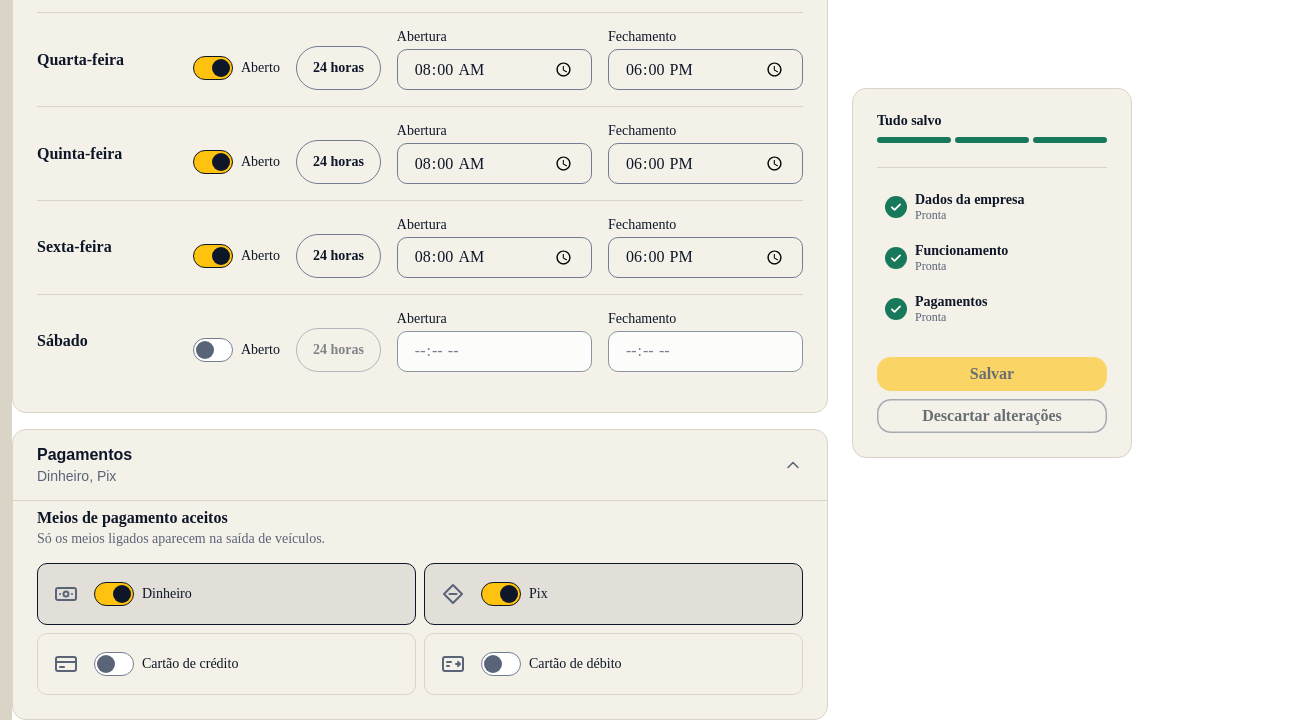
EmpresaForm: seção Pagamentos › salva enviando os quatro meios junto com o restante
The width and height of the screenshot is (1292, 720).
(page scrolled)
Expected: the switch named "Dinheiro" is shown, [94,582,134,606]
Click the switch named "Cartão de crédito". click: point(114, 664)
box: [94,652,134,676]
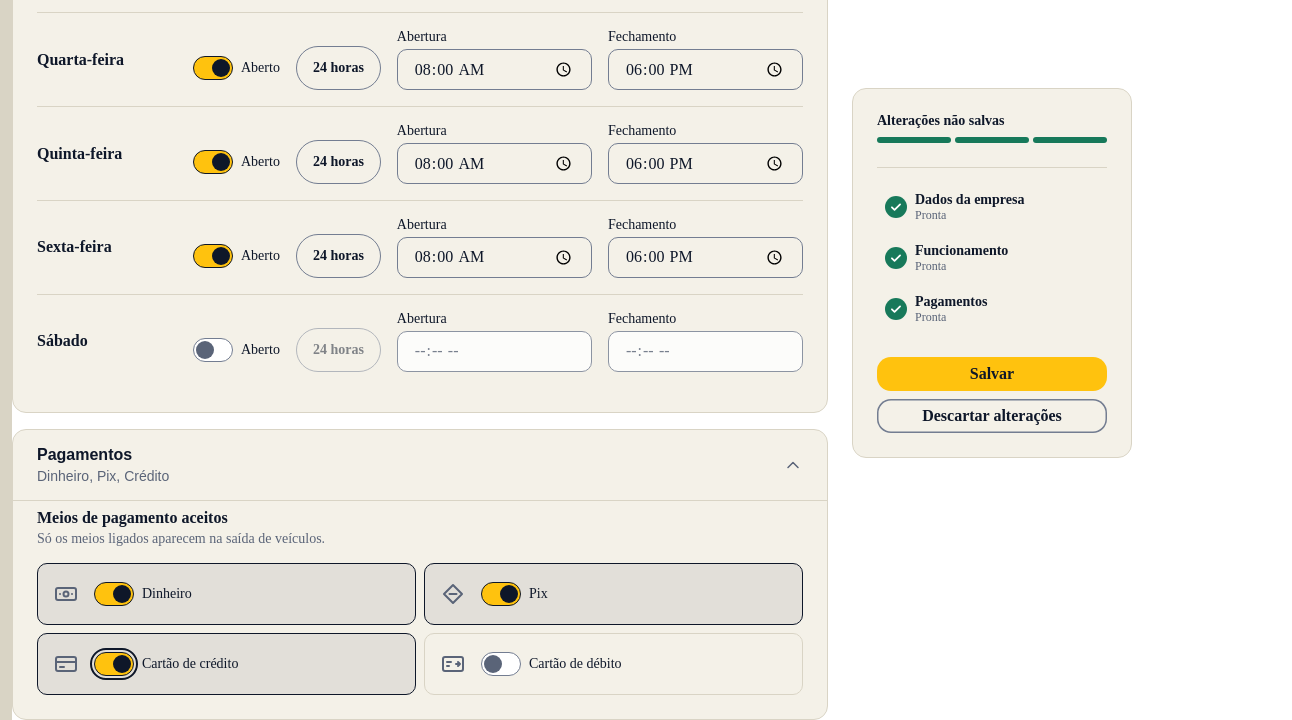
Click the switch named "Pix". click: point(501, 594)
box: [481,582,521,606]
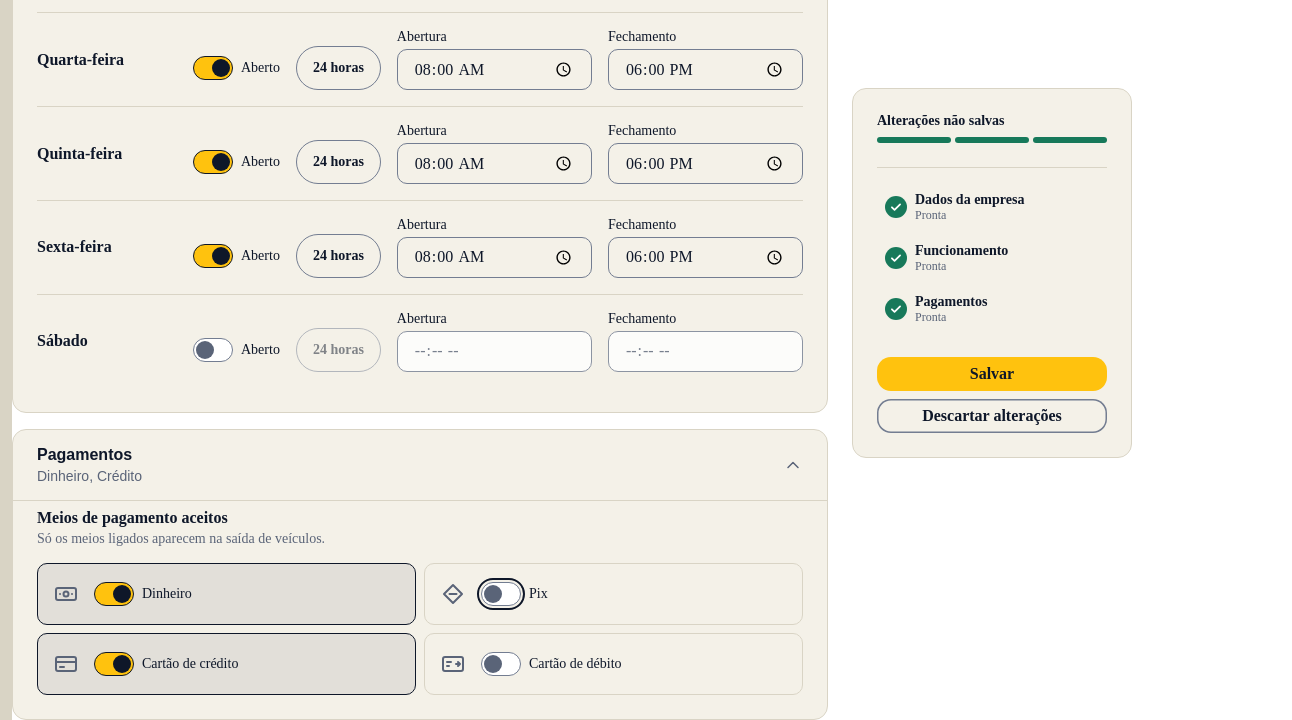
Click the button "Salvar". click: point(992, 374)
box: [877,357,1107,391]
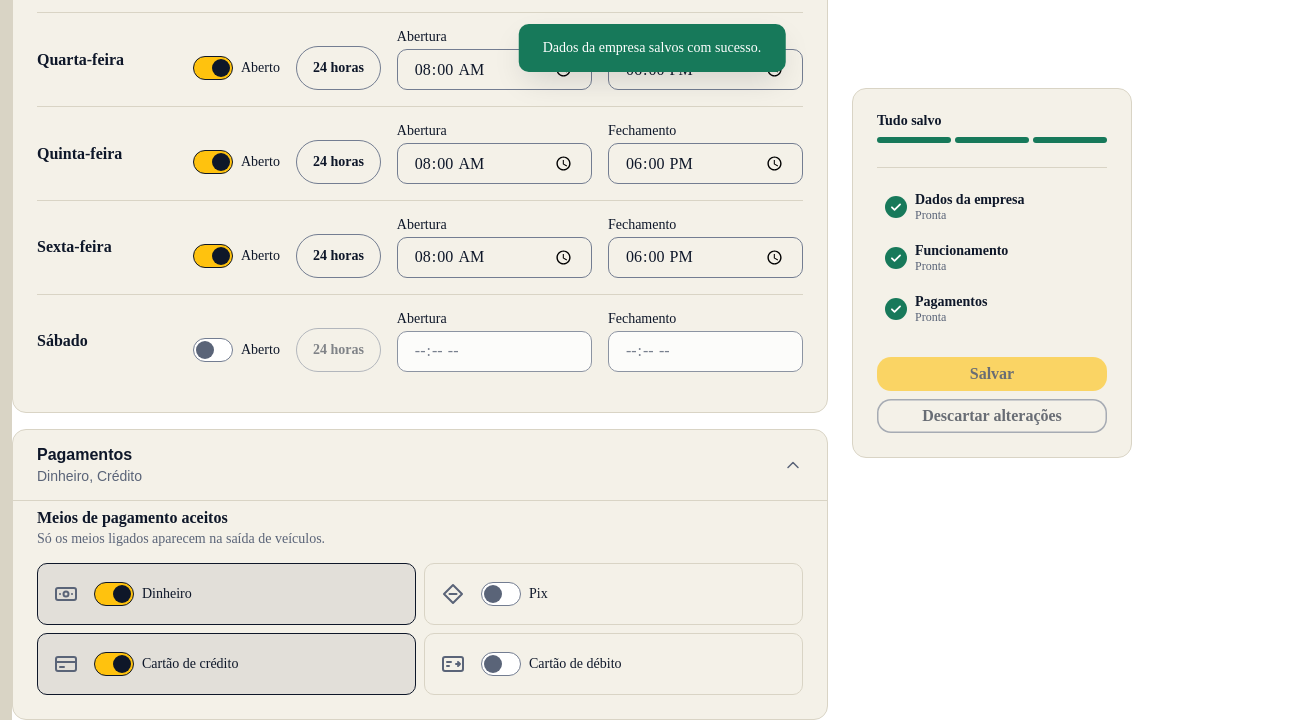
Expected: the text "Dados da empresa salvos com sucesso." is shown, [519,24,785,72]
